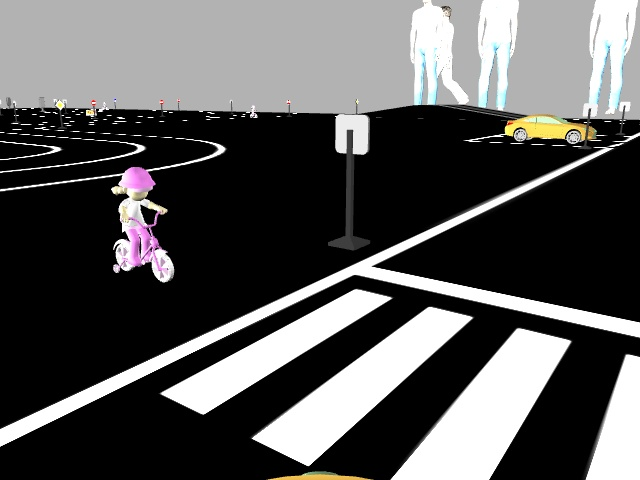Pedestrian: (104, 163, 178, 284)
